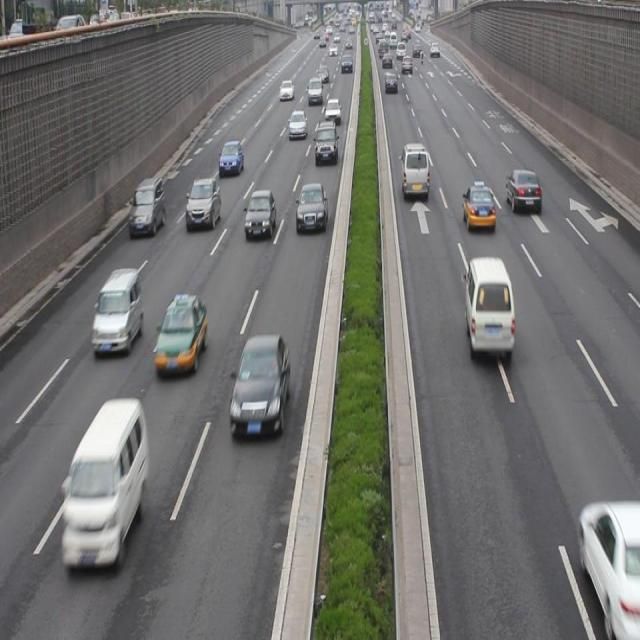car: (577, 501, 640, 626), (230, 335, 288, 437), (155, 294, 206, 374), (128, 177, 164, 238), (185, 176, 220, 231), (505, 168, 540, 216), (462, 183, 496, 232), (244, 188, 275, 239), (296, 182, 327, 232), (314, 120, 339, 166), (219, 139, 244, 177), (287, 108, 306, 140)
truck: (62, 400, 146, 567), (464, 255, 513, 357), (92, 267, 142, 353), (401, 142, 429, 200)
